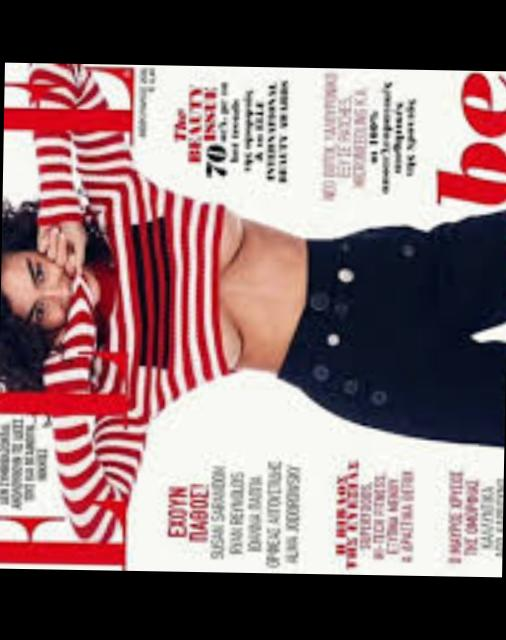cardboard paper: (0, 63, 506, 577)
